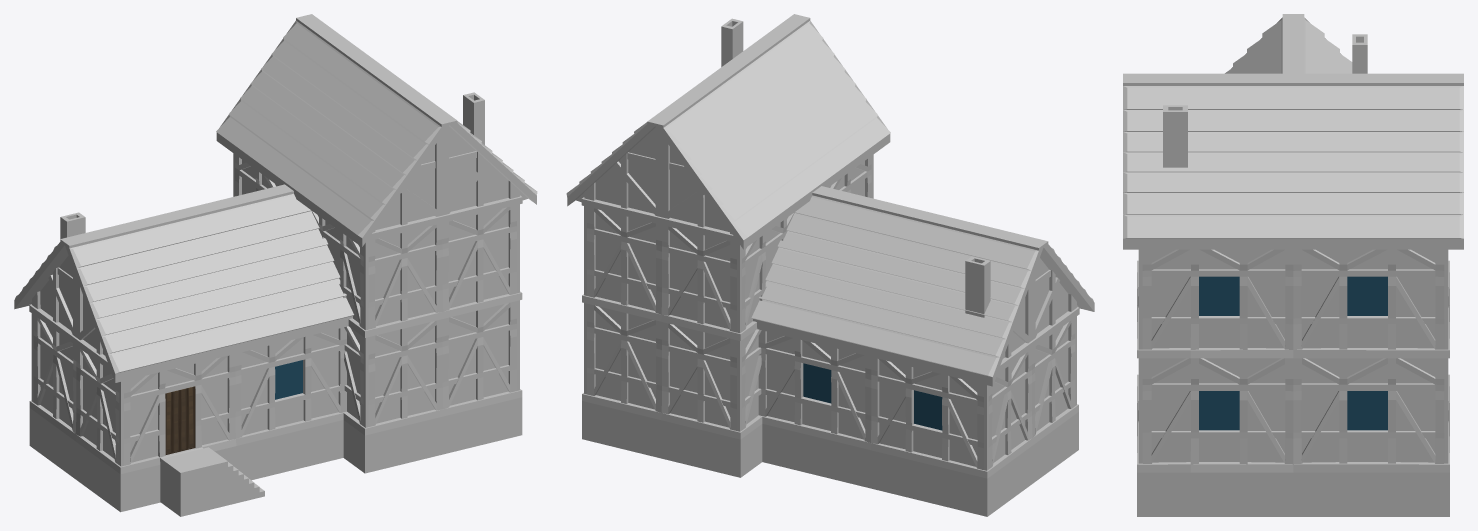
The model's file is House.obj.
The picture shows the model from 3 angles, left to right: view 1: azimuth 30°, elevation 25°; view 2: azimuth 150°, elevation 25°; view 3: azimuth 270°, elevation 25°; orthographic projection. The views are drawn at different scales.
Parts seen in each view (by area): view 1: Roof1, Walls1, Roof1.001, Walls1.001, Walls1.002, Doors, Class1.008, Furnace.001; view 2: Roof1, Walls1, Roof1.001, Walls1.001, Walls1.002, Furnace, Class1.001, Class1.002, Furnace.001; view 3: Roof1.001, Walls1.001, Walls1.002, Roof1, Class1, Class1.003, Class1.004, Class1.005, Furnace.001, Furnace.
Part boxes in pixels (left/top/right/bottom): Roof1: left=14, top=184, right=353, bottom=382; Walls1: left=29, top=313, right=346, bottom=516; Roof1.001: left=216, top=14, right=537, bottom=246; Walls1.001: left=343, top=300, right=522, bottom=473; Walls1.002: left=233, top=153, right=522, bottom=337; Doors: left=165, top=386, right=195, bottom=454; Class1.008: left=275, top=360, right=302, bottom=399; Furnace.001: left=463, top=92, right=484, bottom=144; Roof1: left=751, top=186, right=1094, bottom=386; Walls1: left=758, top=316, right=1078, bottom=516; Roof1.001: left=566, top=14, right=890, bottom=249; Walls1.001: left=582, top=303, right=762, bottom=477; Walls1.002: left=582, top=154, right=873, bottom=340; Furnace: left=965, top=256, right=990, bottom=317; Class1.001: left=803, top=363, right=831, bottom=403; Class1.002: left=914, top=390, right=942, bottom=430; Furnace.001: left=721, top=18, right=743, bottom=66; Roof1.001: left=1123, top=73, right=1463, bottom=249; Walls1.001: left=1137, top=358, right=1449, bottom=516; Walls1.002: left=1137, top=249, right=1449, bottom=358; Roof1: left=1225, top=14, right=1352, bottom=73; Class1: left=1199, top=391, right=1239, bottom=430; Class1.003: left=1347, top=391, right=1387, bottom=430; Class1.004: left=1347, top=276, right=1387, bottom=315; Class1.005: left=1199, top=276, right=1239, bottom=315; Furnace.001: left=1163, top=105, right=1187, bottom=167; Furnace: left=1352, top=34, right=1367, bottom=73.
Size of the model in its own units: 10.81 by 8.65 by 6.78.
